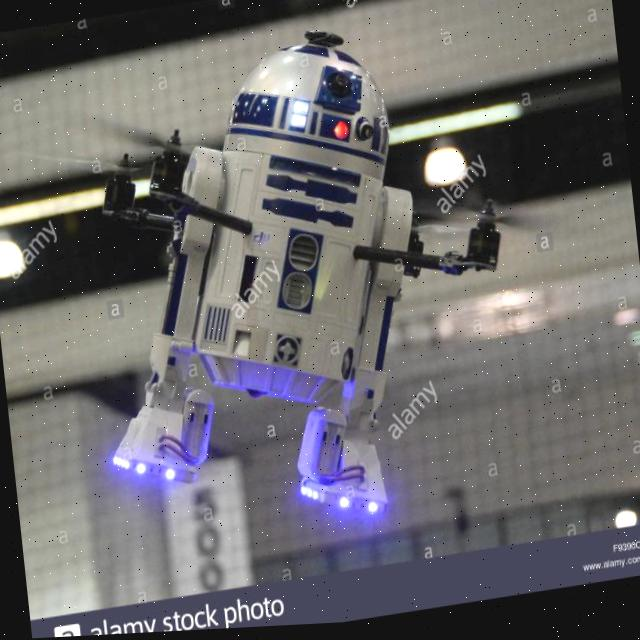drone: (24, 53, 538, 372)
